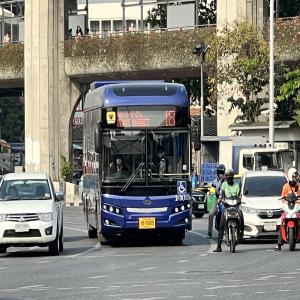Bus Line Number: (162, 107, 179, 128)
Bus Side Number: (172, 193, 190, 203)
Destination Sign: (115, 109, 152, 129)
TSB-Bus: (80, 80, 192, 247)
